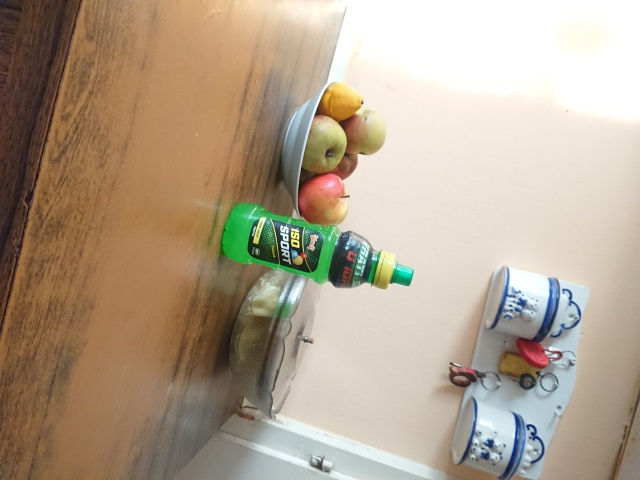Vindi Iso Sport Lemon-Grapefruit 500mL: (218, 199, 416, 292)
